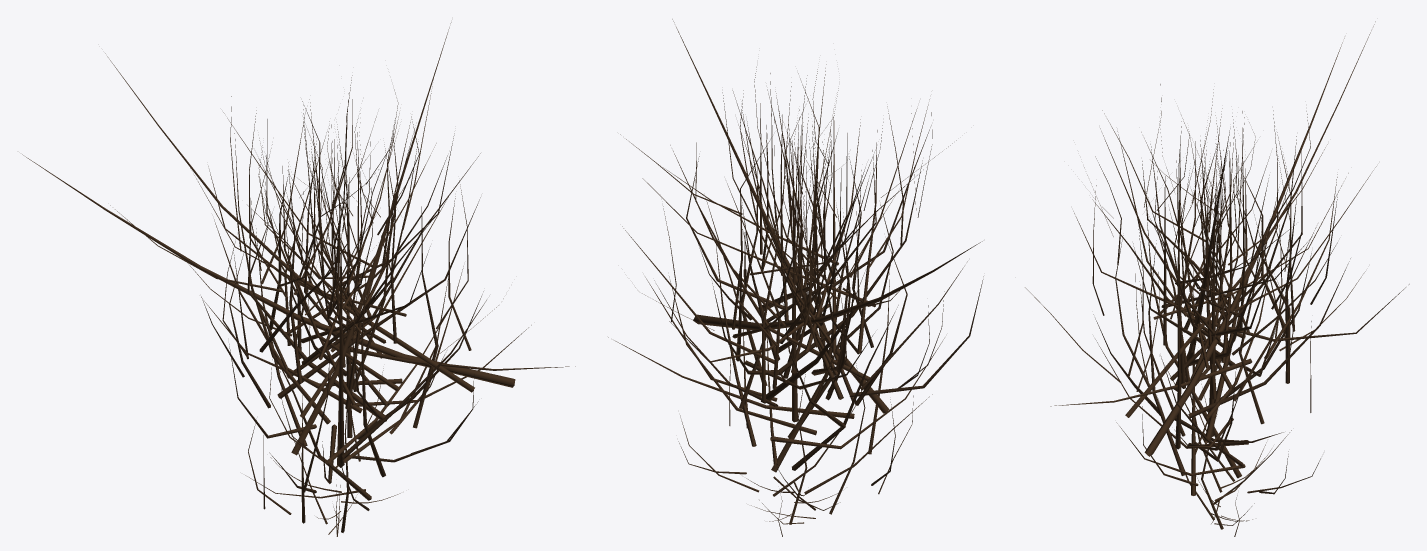
File: bush-tree-002.glb
The picture shows the model from 3 angles, left to right: view 1: azimuth 30°, elevation 25°; view 2: azimuth 150°, elevation 25°; view 3: azimuth 270°, elevation 25°; orthographic projection. The views are drawn at different scales.
Parts seen in each view (by area): view 1: v_tree.002; view 2: v_tree.002; view 3: v_tree.002.
Boxes of the visible parts, bbox=[...] form: v_tree.002: bbox=[22, 22, 575, 536]; v_tree.002: bbox=[608, 19, 983, 536]; v_tree.002: bbox=[1025, 21, 1409, 536].
Size of the model in its own units: 4.5 by 4.82 by 3.73.
